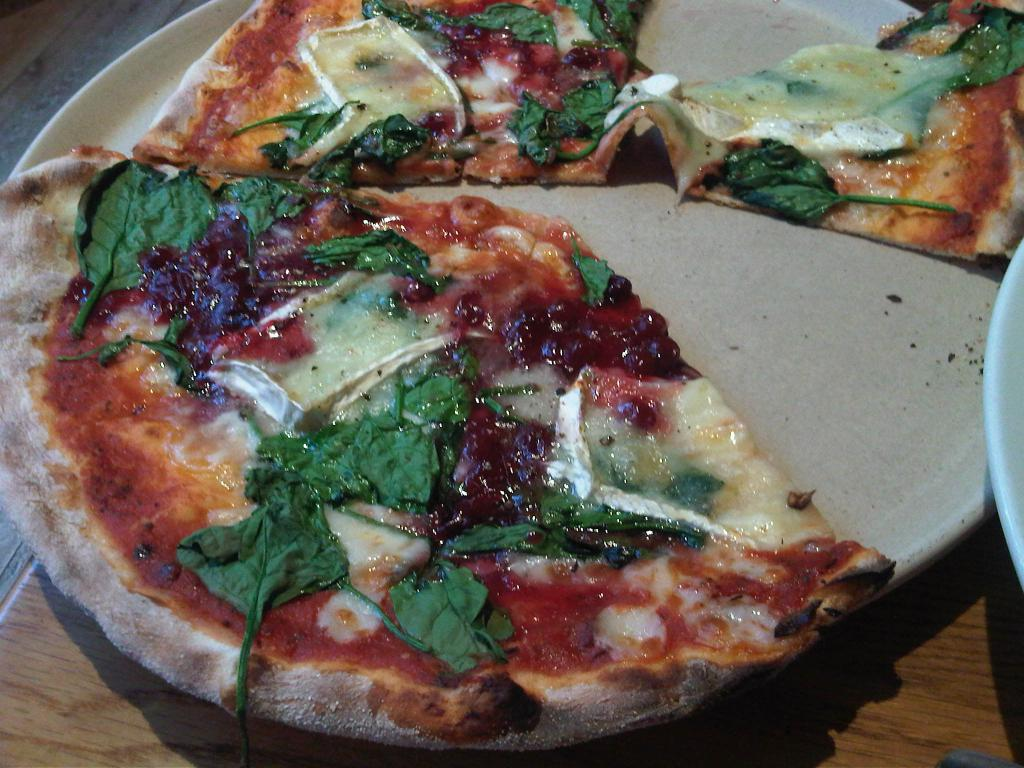pizza: (0, 147, 894, 756), (136, 0, 1023, 265), (644, 0, 1023, 269), (131, 0, 655, 186)
